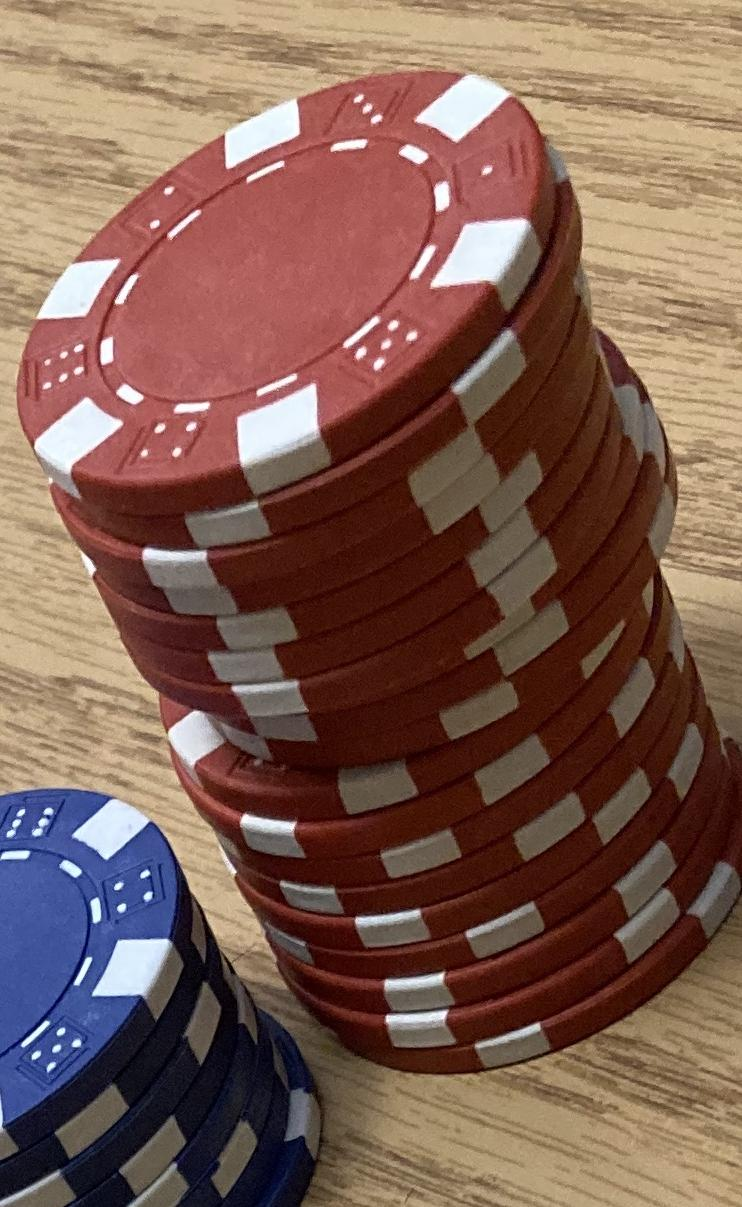Chip: (1, 1, 742, 1207)
